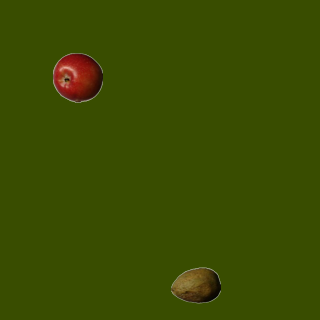Apple Braeburn: (52, 52, 102, 102)
Papaya: (170, 260, 220, 310)
